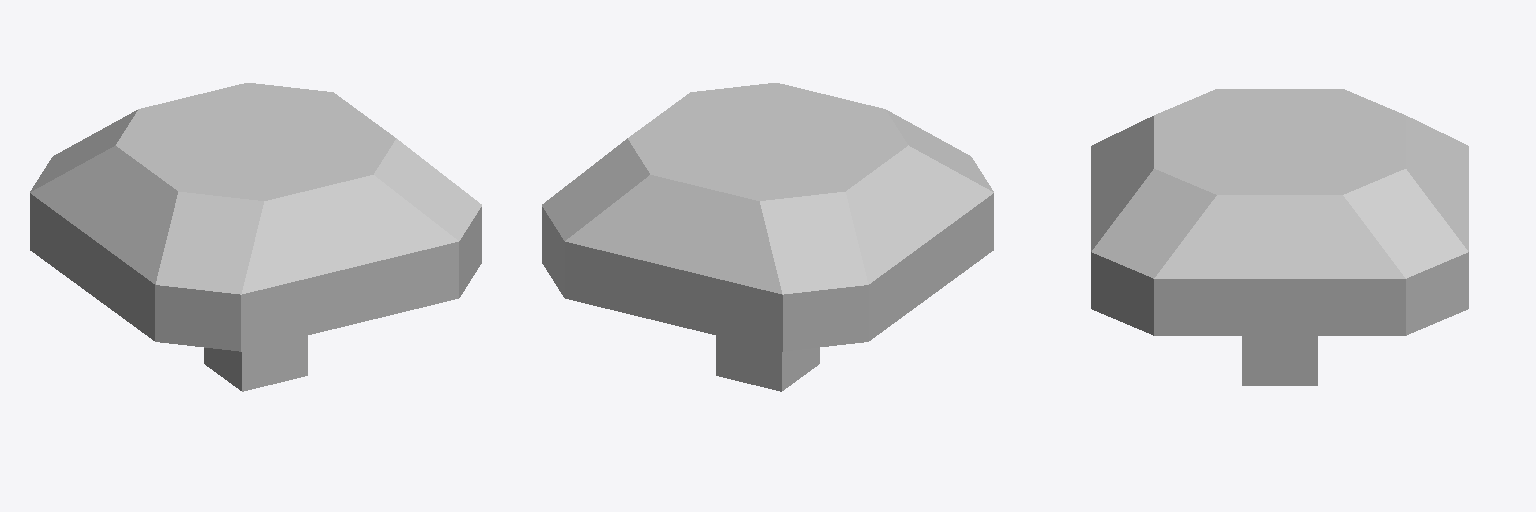
Rendered from button.obj.
3 views of the same model, side by side, from view 1: azimuth 30°, elevation 25°; view 2: azimuth 150°, elevation 25°; view 3: azimuth 270°, elevation 25° (orthographic).
Visible parts, largest first — view 1: button; view 2: button; view 3: button.
Part boxes in pixels (bbox=[...]): button: bbox=[30, 83, 481, 391]; button: bbox=[542, 83, 993, 391]; button: bbox=[1091, 89, 1468, 385].
Size of the model in its own units: 1.5 by 1 by 1.5.